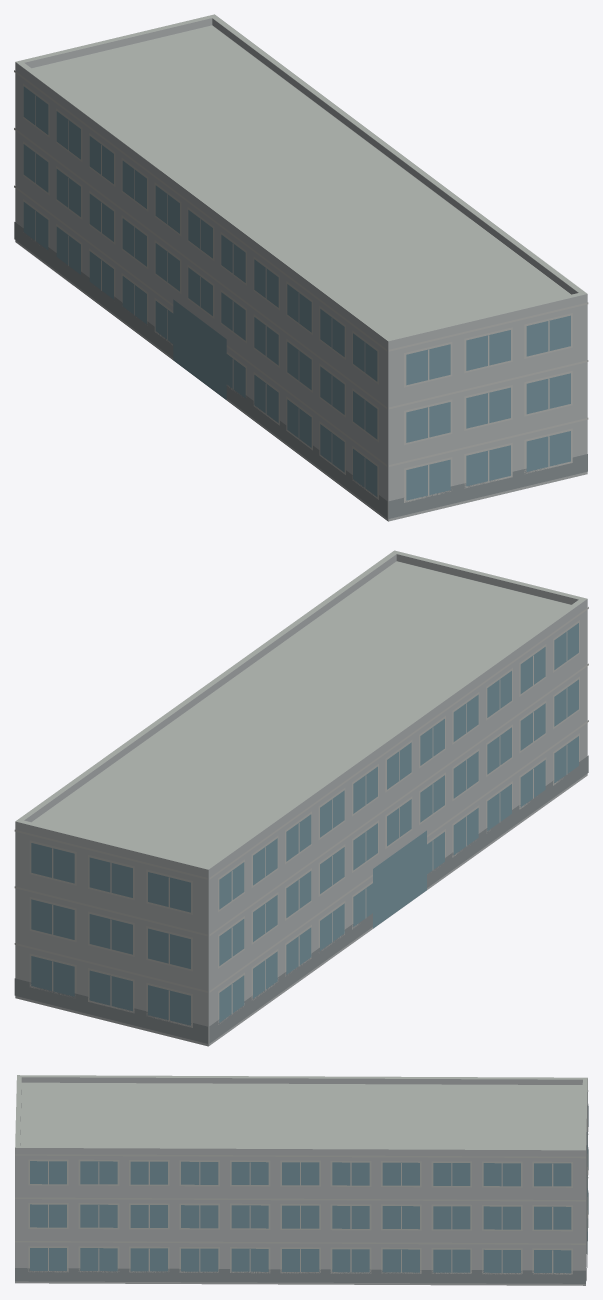
The model's file is public-7216f891-09bf-46b5-b812-ec3d6eac4920.glb.
3 renders of one model, top to bottom at view 1: azimuth 30°, elevation 25°; view 2: azimuth 150°, elevation 25°; view 3: azimuth 270°, elevation 25°, orthographic. The views are drawn at different scales.
Visible parts, largest first — view 1: public-7216f891-09bf-46b5-b812-ec3d6eac4920; view 2: public-7216f891-09bf-46b5-b812-ec3d6eac4920; view 3: public-7216f891-09bf-46b5-b812-ec3d6eac4920.
Boxes of the visible parts, bbox=[...] form: public-7216f891-09bf-46b5-b812-ec3d6eac4920: bbox=[14, 14, 588, 521]; public-7216f891-09bf-46b5-b812-ec3d6eac4920: bbox=[14, 550, 588, 1046]; public-7216f891-09bf-46b5-b812-ec3d6eac4920: bbox=[15, 1075, 588, 1285].
Size of the model in its own units: 12.01 by 9.15 by 35.19.
